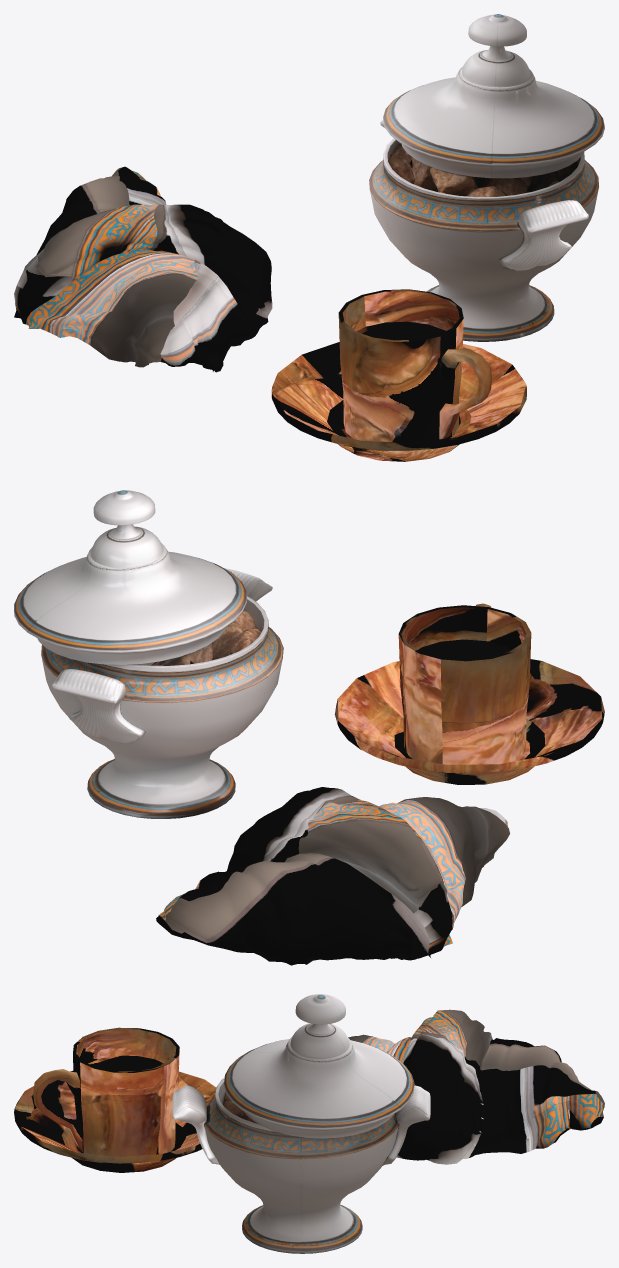
File: 07_Croissant_Test.glb
3 renders of one model, top to bottom at view 1: azimuth 30°, elevation 25°; view 2: azimuth 150°, elevation 25°; view 3: azimuth 270°, elevation 25°, orthographic. The views are drawn at different scales.
Visible parts, largest first — view 1: Croissant.003; view 2: Croissant.003; view 3: Croissant.003.
Part boxes in pixels (x1,y1,x2,y2): Croissant.003: (14, 14, 604, 461); Croissant.003: (14, 490, 604, 965); Croissant.003: (14, 994, 604, 1253).
Size of the model in its own units: 0.2317 by 0.1308 by 0.2857.
5 materials, 5 textured.
